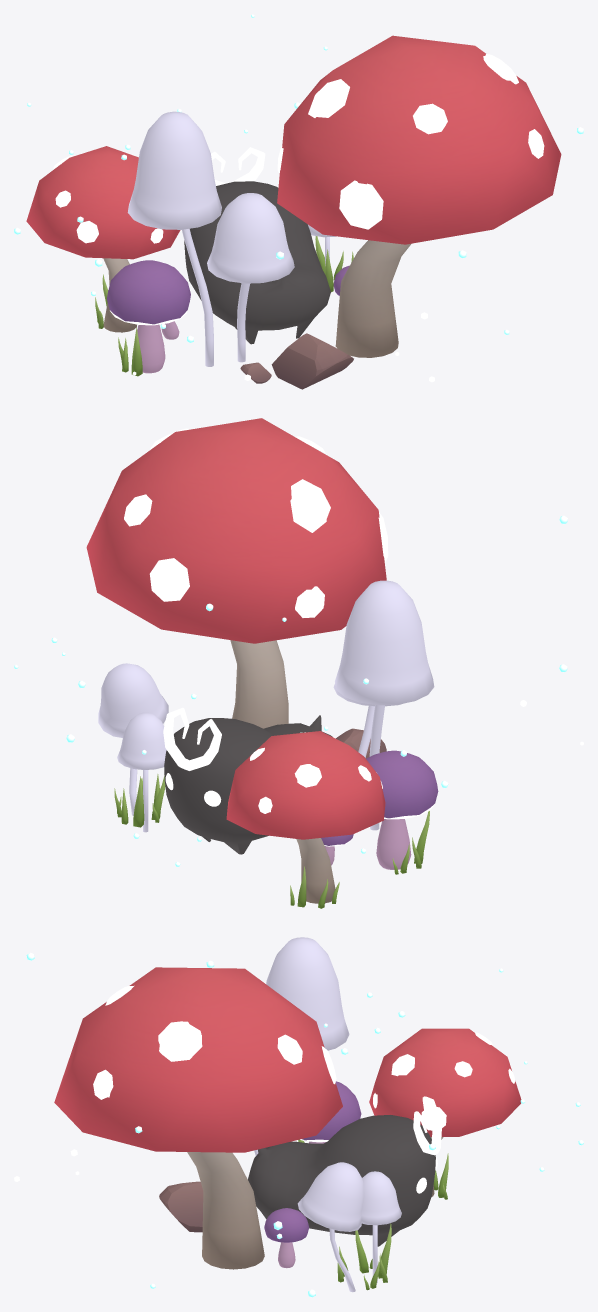
3 renders of one model, top to bottom at view 1: azimuth 30°, elevation 25°; view 2: azimuth 150°, elevation 25°; view 3: azimuth 270°, elevation 25°, orthographic. The views are drawn at different scales.
Parts seen in each view (by area): view 1: Scene; view 2: Scene; view 3: Scene.
Part boxes in pixels (<box>): Scene: <box>14,14,583,389</box>; Scene: <box>14,418,583,908</box>; Scene: <box>14,937,583,1297</box>.
Size of the model in its own units: 7.9 by 5.26 by 8.72.
10 materials, 8 textured.
